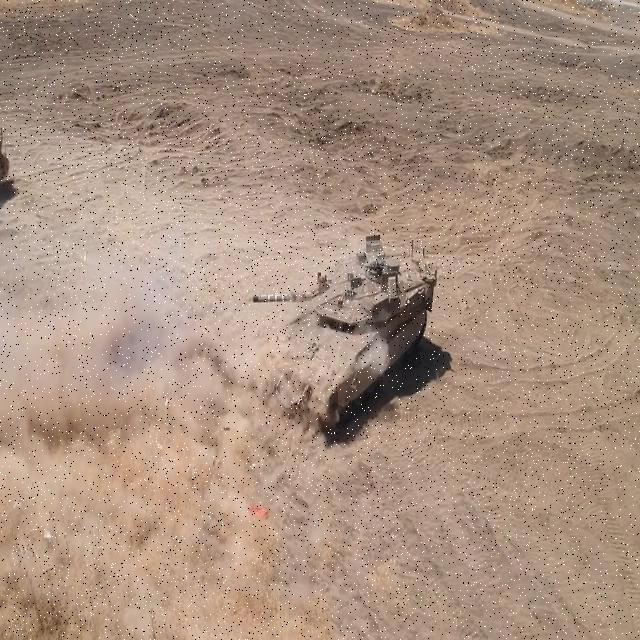MIL_MBT: (244, 220, 450, 442)
